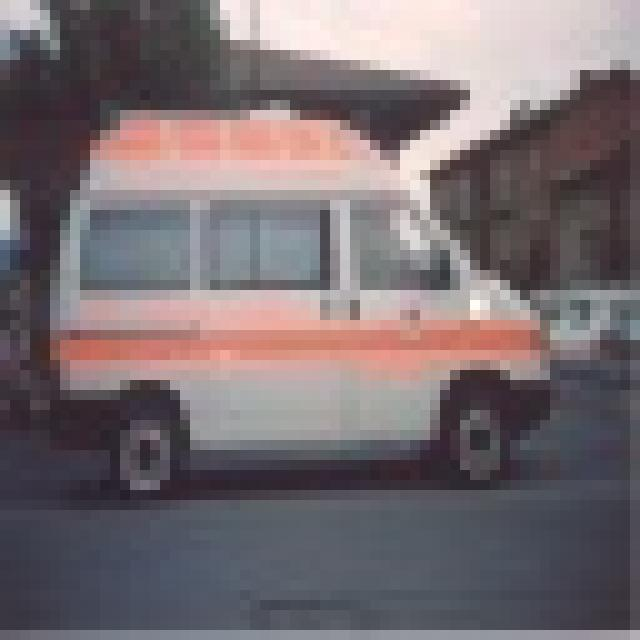Ambulance: (10, 100, 550, 490)
